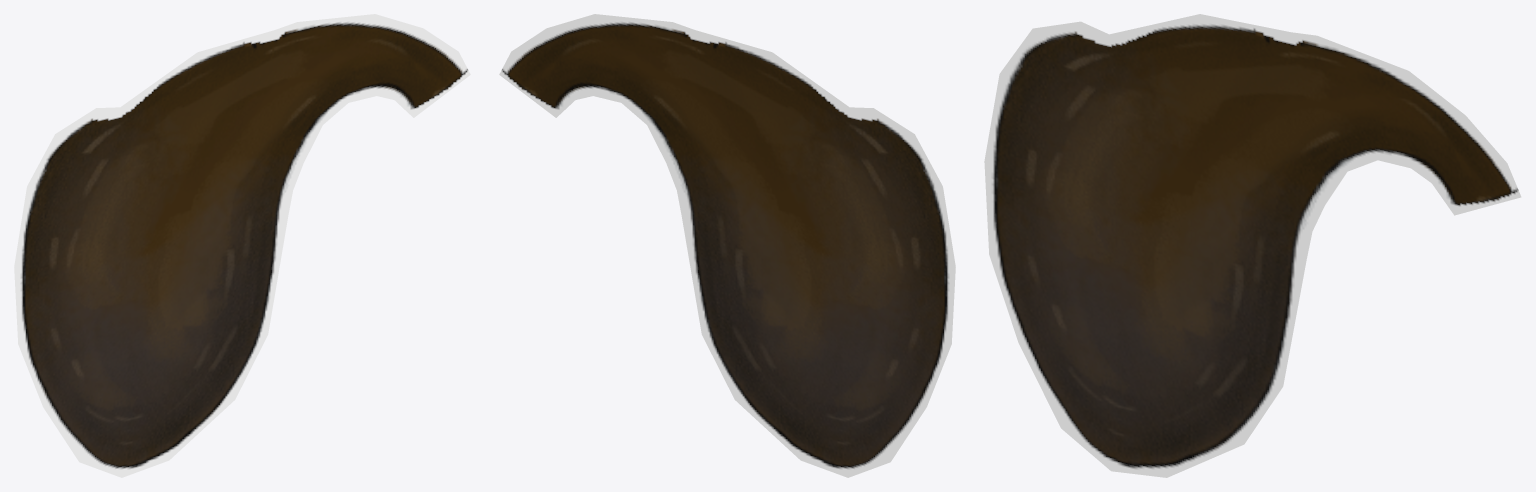
The picture shows the model from 3 angles, left to right: view 1: azimuth 30°, elevation 25°; view 2: azimuth 150°, elevation 25°; view 3: azimuth 330°, elevation 25°; orthographic projection. The views are drawn at different scales.
Visible parts, largest first — view 1: Plane; view 2: Plane; view 3: Plane.
Part boxes in pixels (x1,y1,x2,y2): Plane: [14, 14, 470, 477]; Plane: [499, 14, 955, 477]; Plane: [984, 14, 1521, 477].
Bounding box in the file's own units: 3.97 × 3.43 × 0.
1 material, 1 textured.
